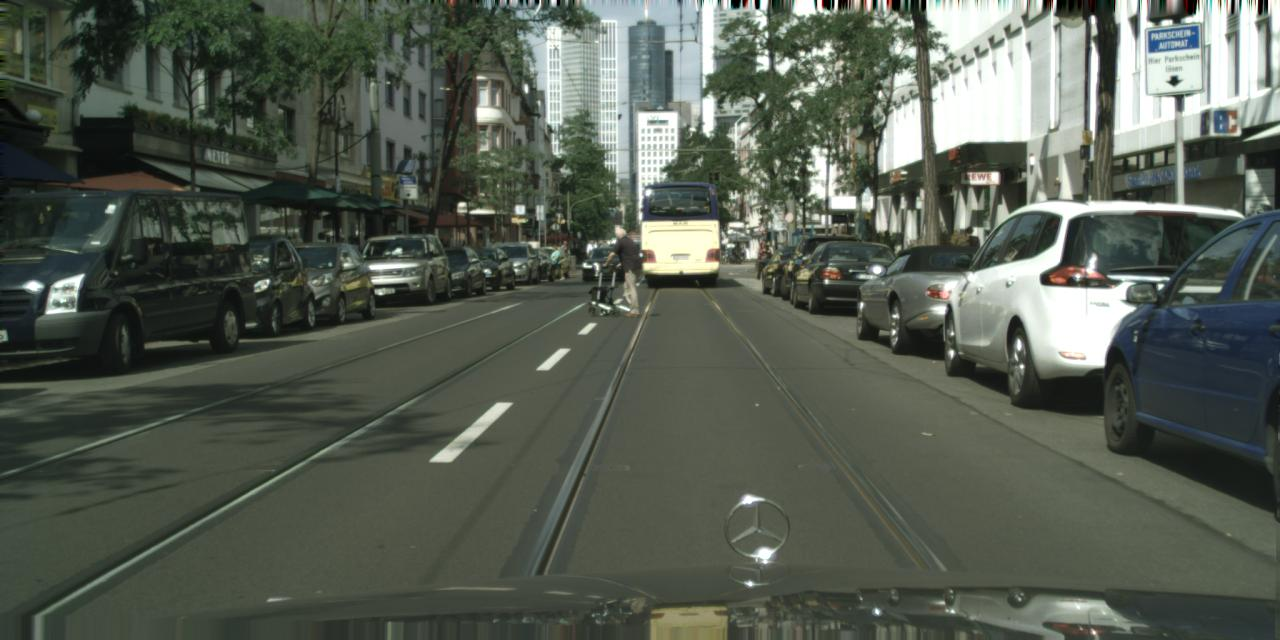ped: (608, 227, 644, 317), (960, 227, 981, 277), (392, 228, 411, 276), (877, 229, 894, 271), (755, 238, 772, 280), (547, 244, 561, 278), (584, 240, 597, 271), (558, 240, 570, 270), (487, 238, 497, 261), (440, 238, 451, 246)
